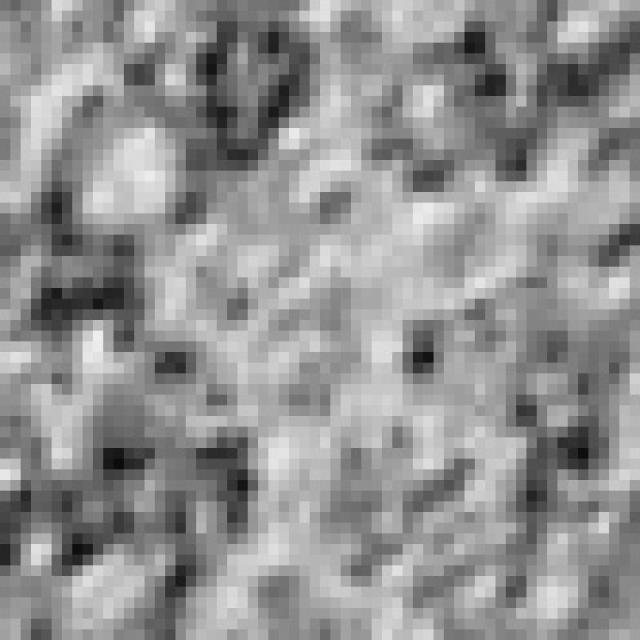inner: (141, 187, 391, 429)
lobe: (398, 281, 627, 477), (51, 389, 267, 596), (323, 416, 507, 620), (370, 28, 558, 211), (28, 179, 158, 365), (193, 19, 320, 186)
outer: (0, 0, 640, 640)
